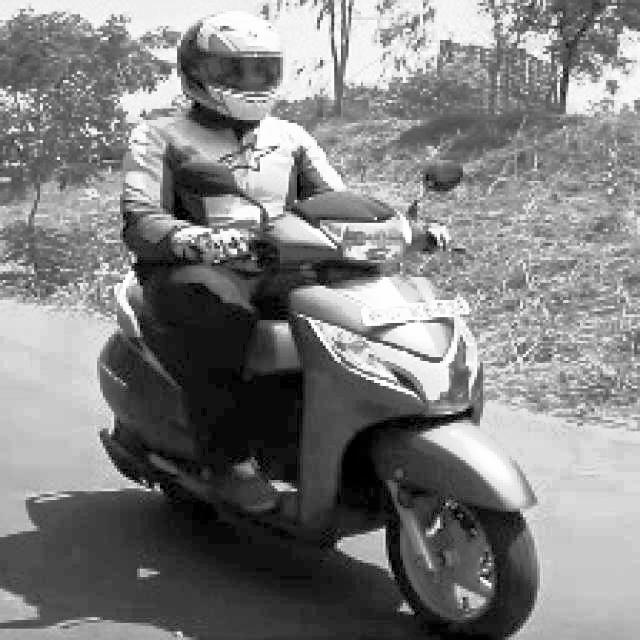Bike: (88, 208, 547, 639)
